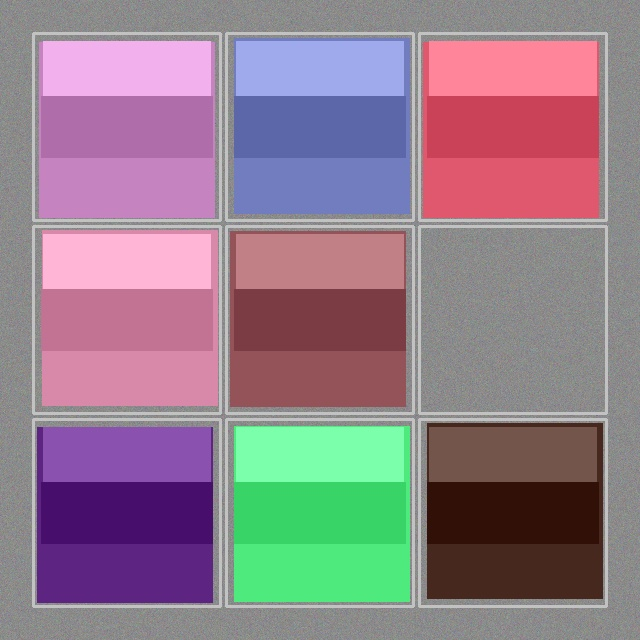space-empty: (421, 228, 604, 411)
space-occupied: (35, 35, 218, 218), (228, 35, 411, 218), (421, 35, 604, 218), (35, 228, 218, 411), (228, 228, 411, 411), (35, 421, 218, 604), (228, 421, 411, 604), (421, 421, 604, 604)
